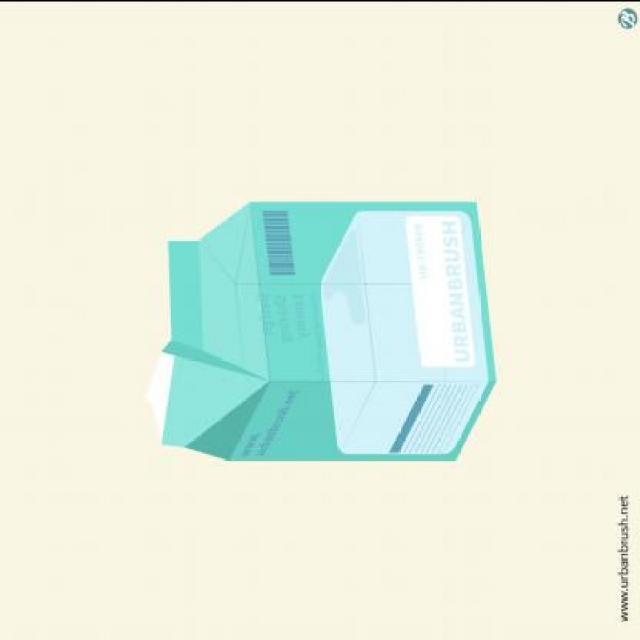non_white_jug: (129, 170, 517, 478)
